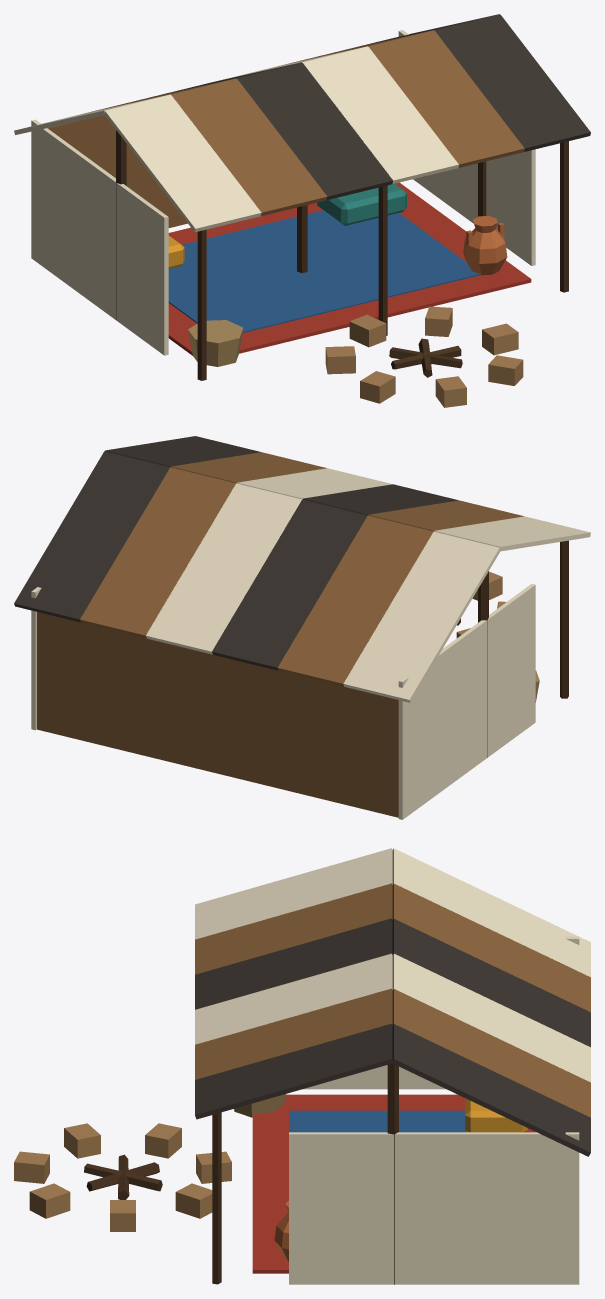
Rendered from desert_tent.glb.
3 renders of one model, top to bottom at view 1: azimuth 30°, elevation 25°; view 2: azimuth 150°, elevation 25°; view 3: azimuth 270°, elevation 25°, orthographic. The views are drawn at different scales.
Visible parts, largest first — view 1: desert_tent; view 2: desert_tent; view 3: desert_tent.
Part boxes in pixels (x1,y1,x2,y2): desert_tent: (14, 14, 590, 407); desert_tent: (14, 436, 590, 819); desert_tent: (14, 848, 590, 1284).
Bounding box in the file's own units: 4.8 × 2.47 × 5.56.
